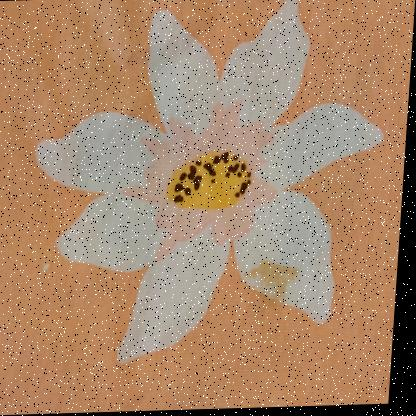spot: (252, 258, 304, 299), (39, 256, 60, 279)
